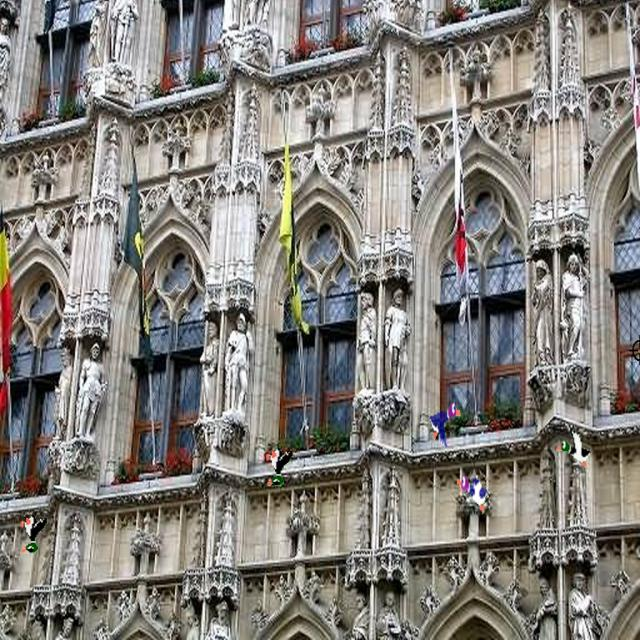duck: (454, 466, 496, 516), (428, 400, 467, 446)
falling_duck: (13, 504, 48, 557), (264, 441, 294, 492)
